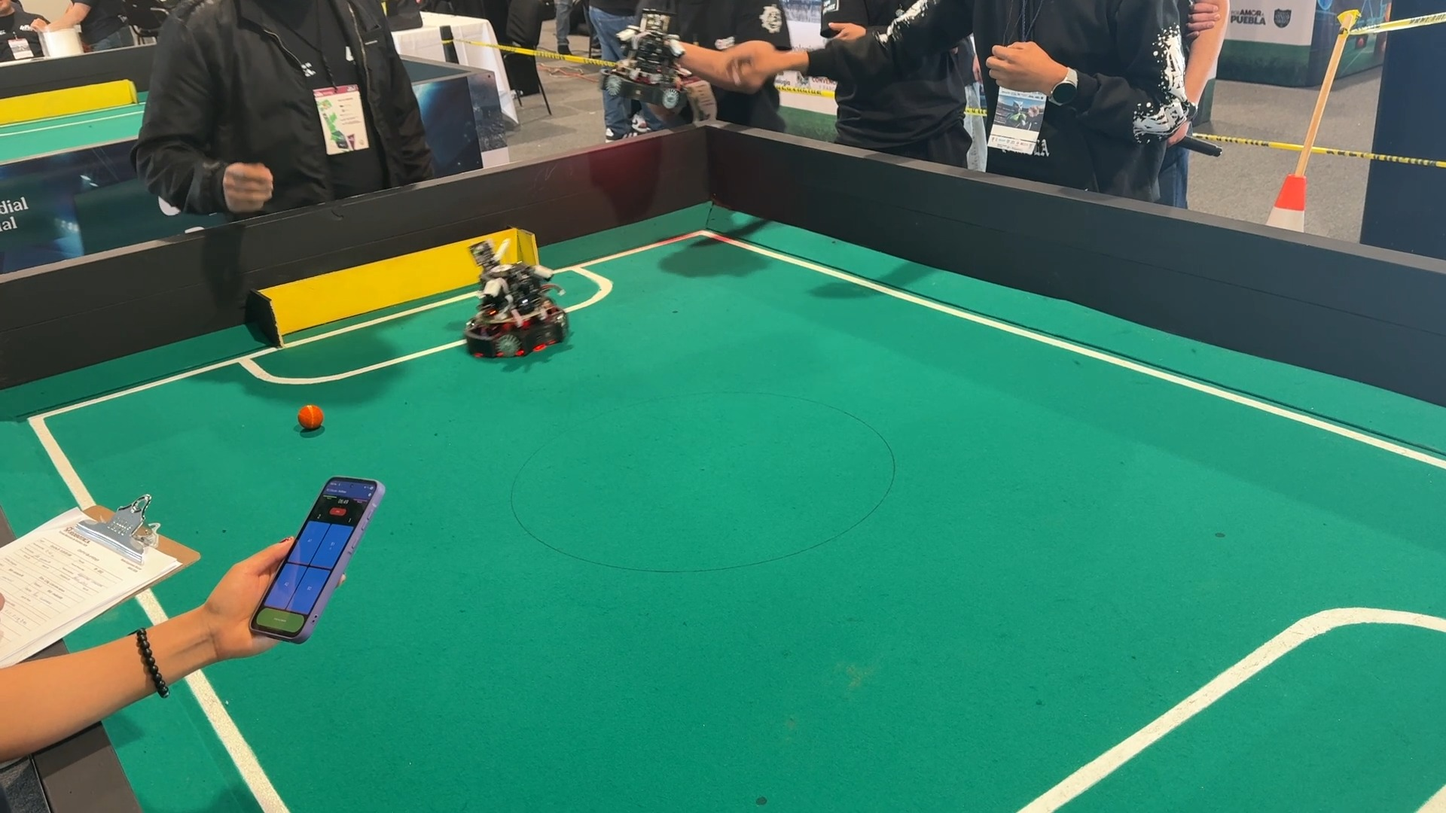Robot: (436, 224, 612, 377), (587, 9, 721, 124)
pelota: (289, 392, 332, 440)
